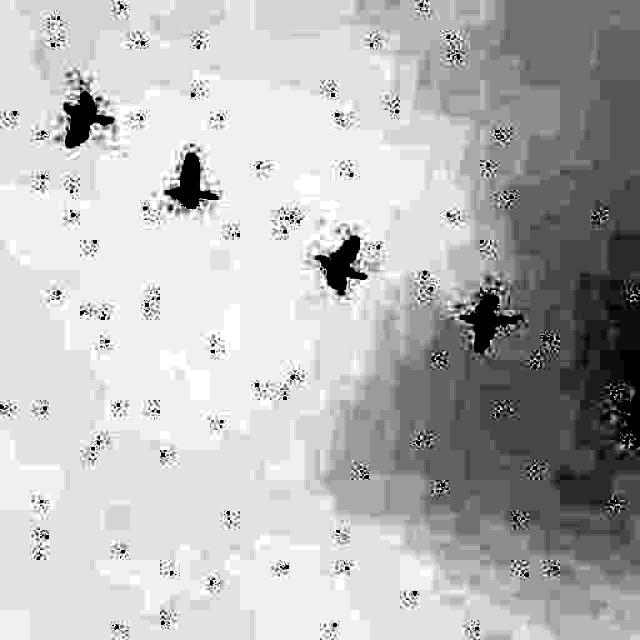airplane: (456, 292, 520, 356), (311, 230, 372, 296), (58, 89, 119, 155), (164, 150, 226, 214), (614, 384, 640, 448)
